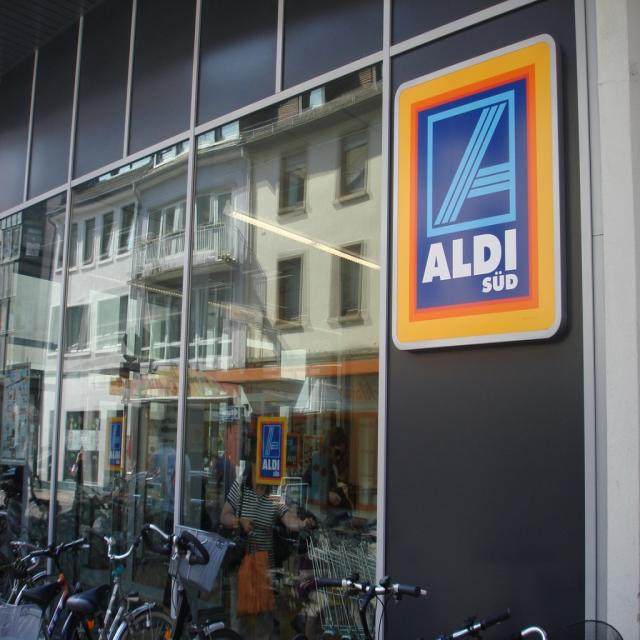aldi: (397, 43, 556, 344), (257, 417, 289, 487), (104, 417, 125, 469)
